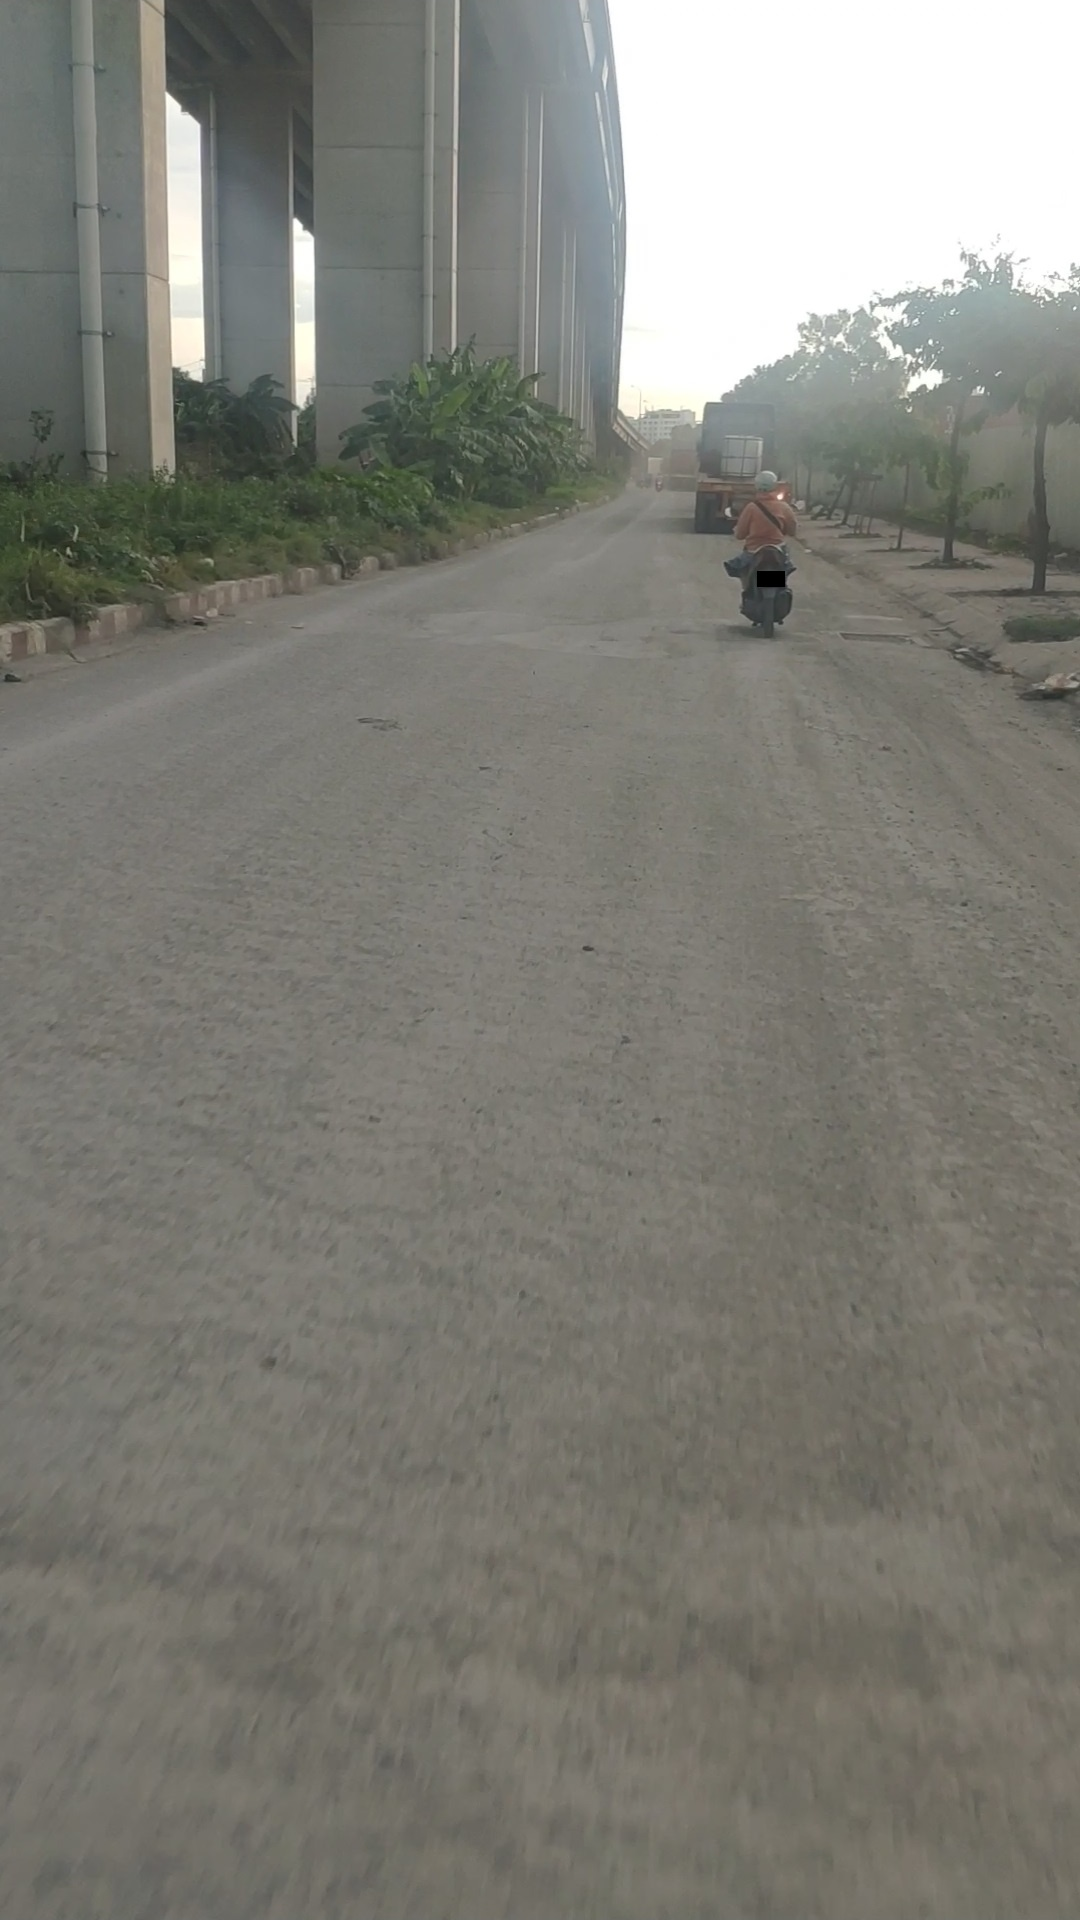hole: (487, 613, 688, 655)
